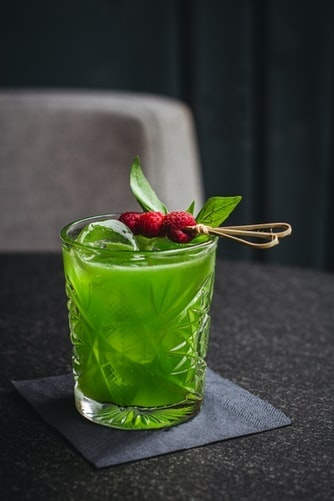whiskey: (68, 220, 223, 426)
